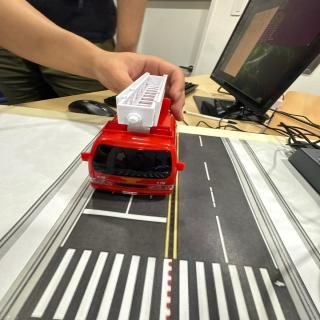Fire_truck: (81, 73, 184, 196)
